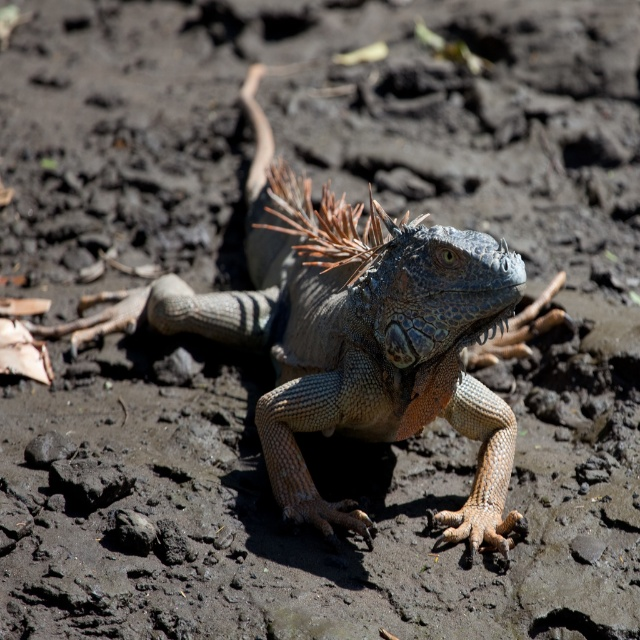Lizard: (33, 181, 571, 566)
